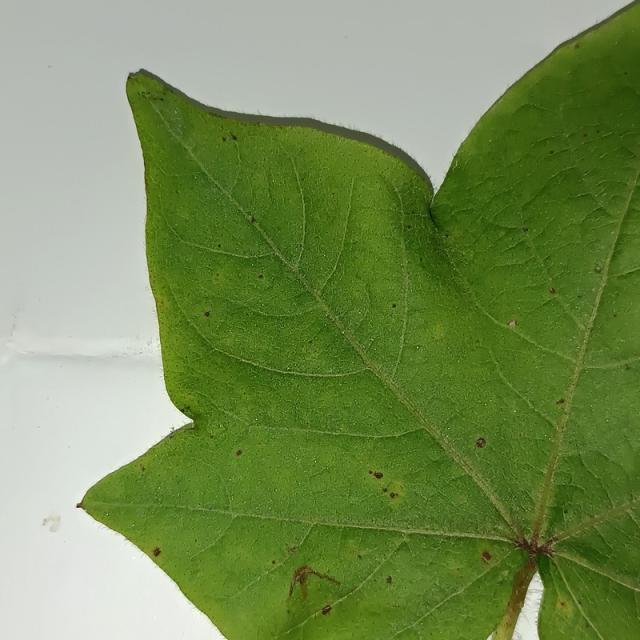Bacterial_Blight: (139, 536, 171, 563), (288, 566, 312, 600), (366, 458, 388, 487), (468, 432, 494, 452), (316, 596, 337, 619), (42, 513, 62, 533), (556, 599, 574, 621), (533, 543, 555, 560), (514, 538, 531, 552), (234, 446, 246, 462), (481, 551, 492, 562), (138, 91, 152, 99), (507, 319, 518, 328), (180, 405, 191, 414), (287, 546, 297, 555), (204, 309, 212, 318), (168, 431, 177, 439), (127, 72, 137, 79), (75, 502, 84, 509), (556, 398, 565, 404), (549, 287, 556, 294), (625, 363, 632, 370), (595, 266, 602, 273), (386, 576, 392, 584), (42, 518, 48, 526), (231, 134, 237, 141), (250, 217, 256, 224), (169, 426, 175, 433), (574, 43, 580, 49), (629, 491, 634, 498), (515, 589, 520, 596), (391, 303, 397, 308), (523, 227, 529, 232), (141, 466, 146, 472), (357, 554, 362, 560), (560, 601, 565, 607), (258, 274, 263, 279), (222, 137, 227, 142), (271, 560, 276, 565), (368, 470, 373, 475), (308, 339, 313, 344), (325, 314, 330, 319), (549, 150, 554, 154), (407, 224, 411, 229), (445, 233, 449, 238), (210, 434, 214, 439), (614, 312, 618, 317), (564, 509, 568, 514), (578, 600, 582, 605), (445, 434, 449, 439), (583, 133, 587, 137), (217, 244, 221, 248), (160, 97, 164, 101), (625, 71, 629, 75), (611, 230, 615, 234), (194, 175, 198, 179), (606, 418, 610, 422), (131, 523, 135, 527), (48, 65, 53, 68), (484, 403, 487, 407)
Cotton: (83, 0, 639, 639)
